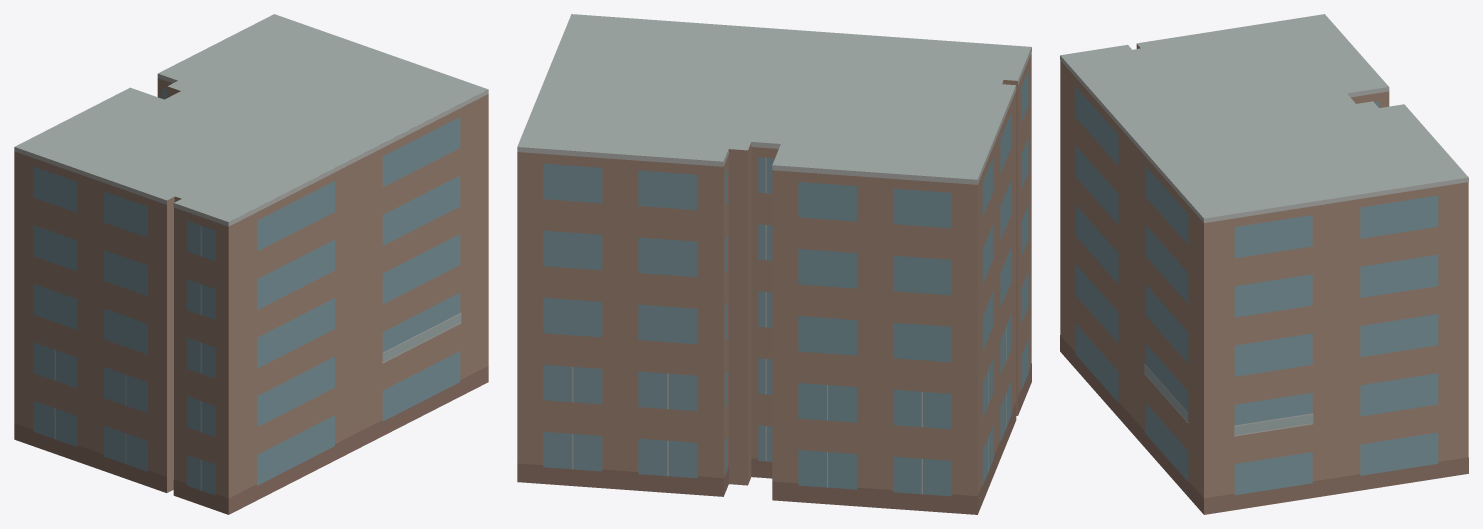
The model's file is survey-upis-32950067.glb.
3 renders of one model, left to right at view 1: azimuth 30°, elevation 25°; view 2: azimuth 150°, elevation 25°; view 3: azimuth 270°, elevation 25°, orthographic. The views are drawn at different scales.
Parts seen in each view (by area): view 1: survey-upis-32950067.tmp; view 2: survey-upis-32950067.tmp; view 3: survey-upis-32950067.tmp.
Boxes of the visible parts, x1,y1,x2,y2 form: survey-upis-32950067.tmp: (14,14,488,514); survey-upis-32950067.tmp: (517,14,1031,514); survey-upis-32950067.tmp: (1060,14,1468,514).
Size of the model in its own units: 23.78 by 16.04 by 20.07.
